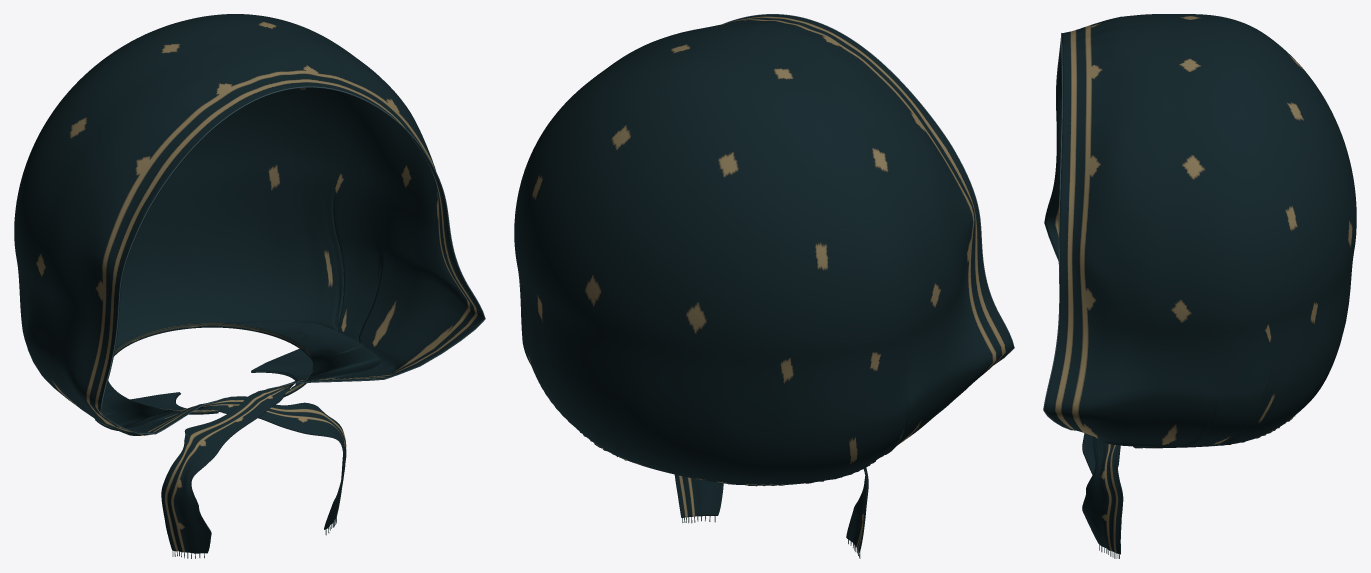
File: Feminine-side-sweep-bandeau-pashmina250-headgear.glb
The picture shows the model from 3 angles, left to right: view 1: azimuth 30°, elevation 25°; view 2: azimuth 150°, elevation 25°; view 3: azimuth 270°, elevation 25°; orthographic projection. The views are drawn at different scales.
Visible parts, largest first — view 1: 226 headgear / Headwear / continuous woven pashmina239, 226 headgear / Headwear / face edge239; view 2: 226 headgear / Headwear / continuous woven pashmina239, 226 headgear / Headwear / face edge239; view 3: 226 headgear / Headwear / continuous woven pashmina239, 226 headgear / Headwear / face edge239.
Boxes of the visible parts, x1,y1,x2,y2 form: 226 headgear / Headwear / continuous woven pashmina239: [14, 14, 484, 553]; 226 headgear / Headwear / face edge239: [100, 86, 485, 434]; 226 headgear / Headwear / continuous woven pashmina239: [514, 14, 1013, 552]; 226 headgear / Headwear / face edge239: [723, 14, 1014, 364]; 226 headgear / Headwear / continuous woven pashmina239: [1044, 14, 1356, 554]; 226 headgear / Headwear / face edge239: [1043, 33, 1075, 430].
Bounding box in the file's own units: 1.15 × 1.39 × 0.8126.
3 materials, 1 textured.
